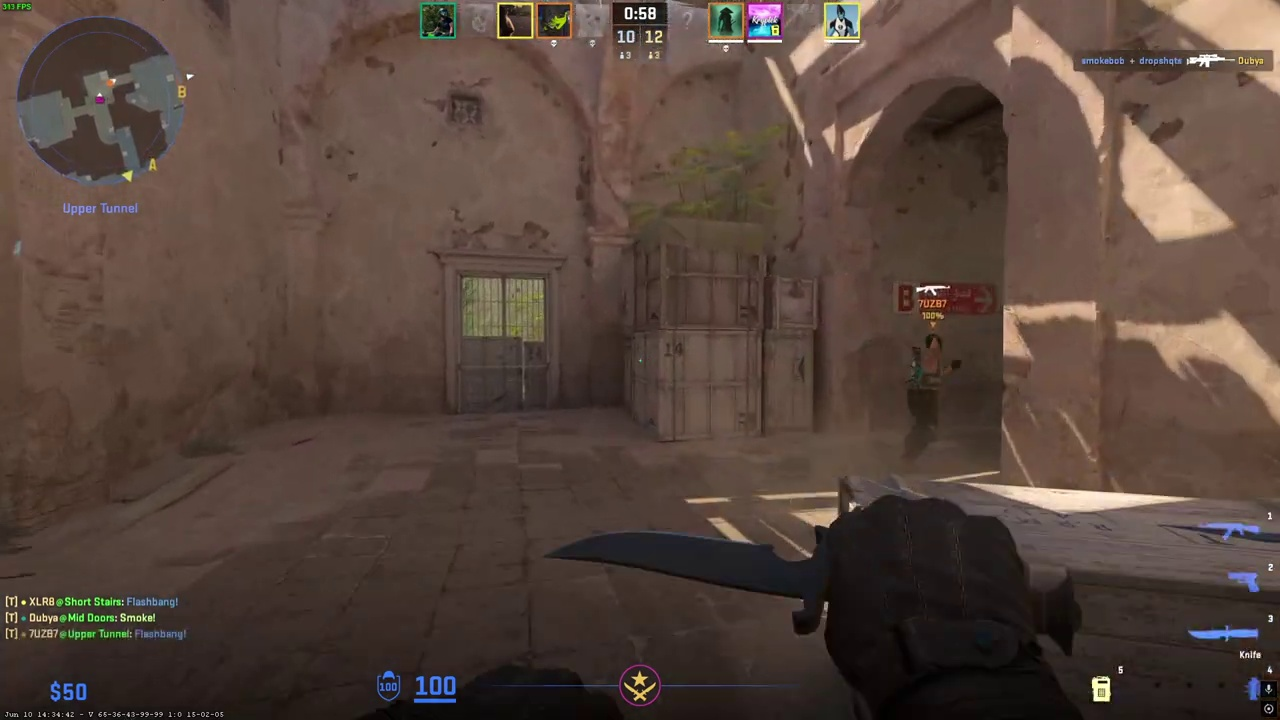Terrorist: (905, 333, 949, 463)
